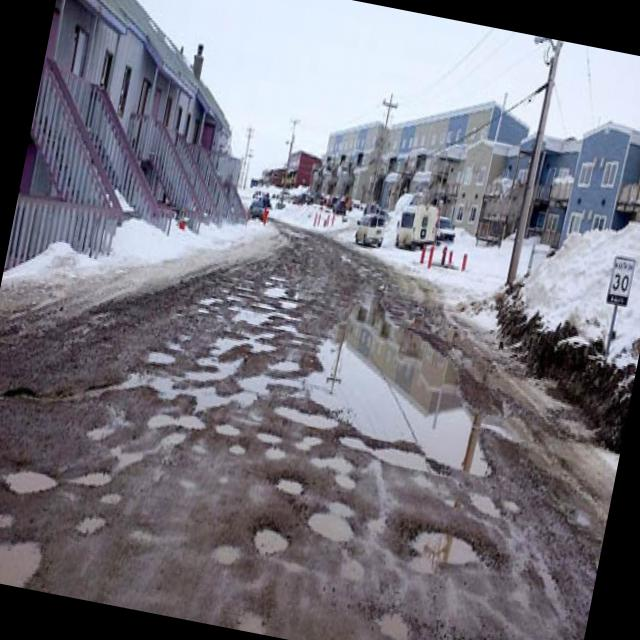Potholes: (302, 264, 532, 484), (115, 247, 320, 458), (398, 511, 507, 596), (0, 525, 60, 593), (292, 494, 368, 547), (243, 513, 302, 574), (0, 466, 68, 508), (260, 456, 314, 506), (450, 614, 542, 640), (371, 601, 424, 640), (66, 506, 109, 554), (77, 466, 116, 497)
